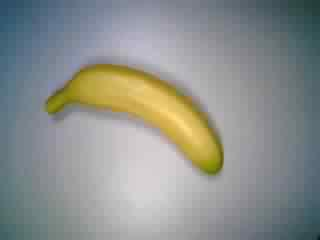banana: (42, 61, 228, 177)
